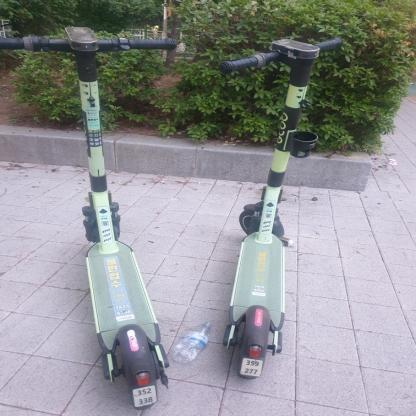kickboard: (3, 19, 185, 410), (201, 19, 343, 390)
